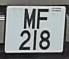1: (32, 29, 39, 51)
2: (18, 29, 33, 52)
8: (38, 29, 52, 51)
F: (37, 7, 51, 31)
M: (21, 9, 38, 30)
